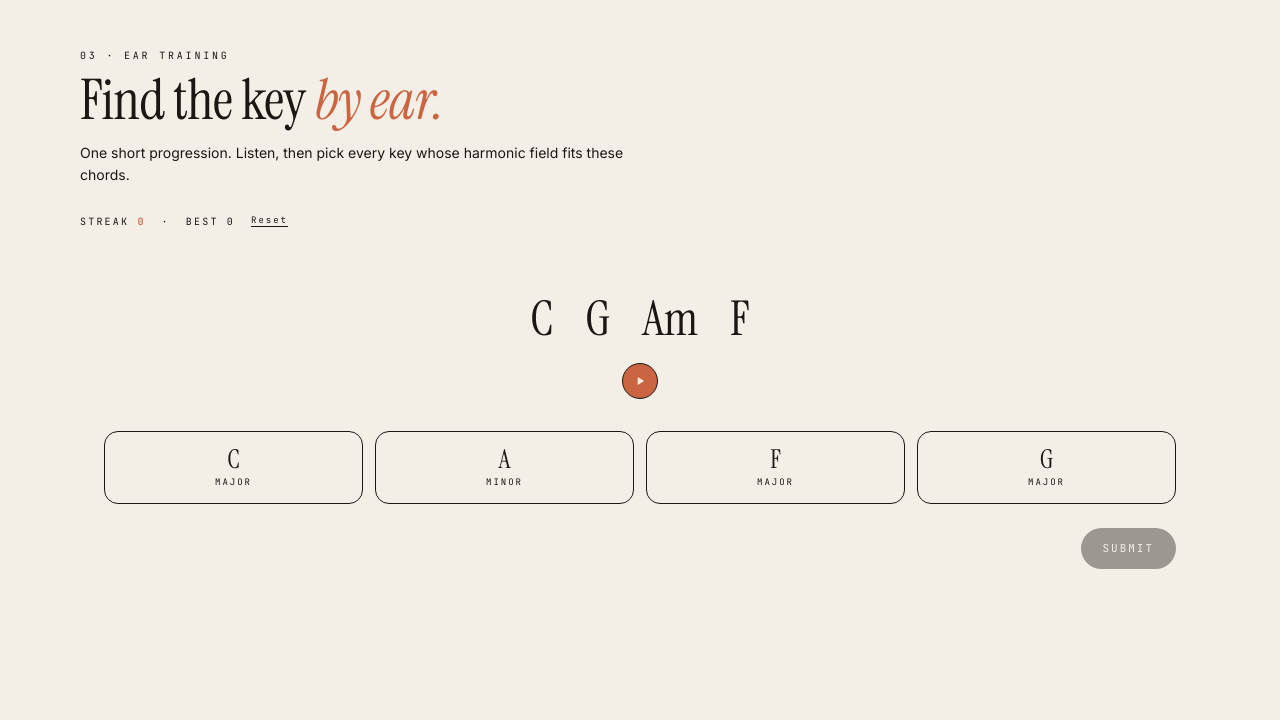
EarTrainingView › Correct submit (both valid keys, no distractors) shows Correct and increments streak
Click the button "C Major".
click(234, 467)  # box top-left (104, 431), bottom-right (363, 504)
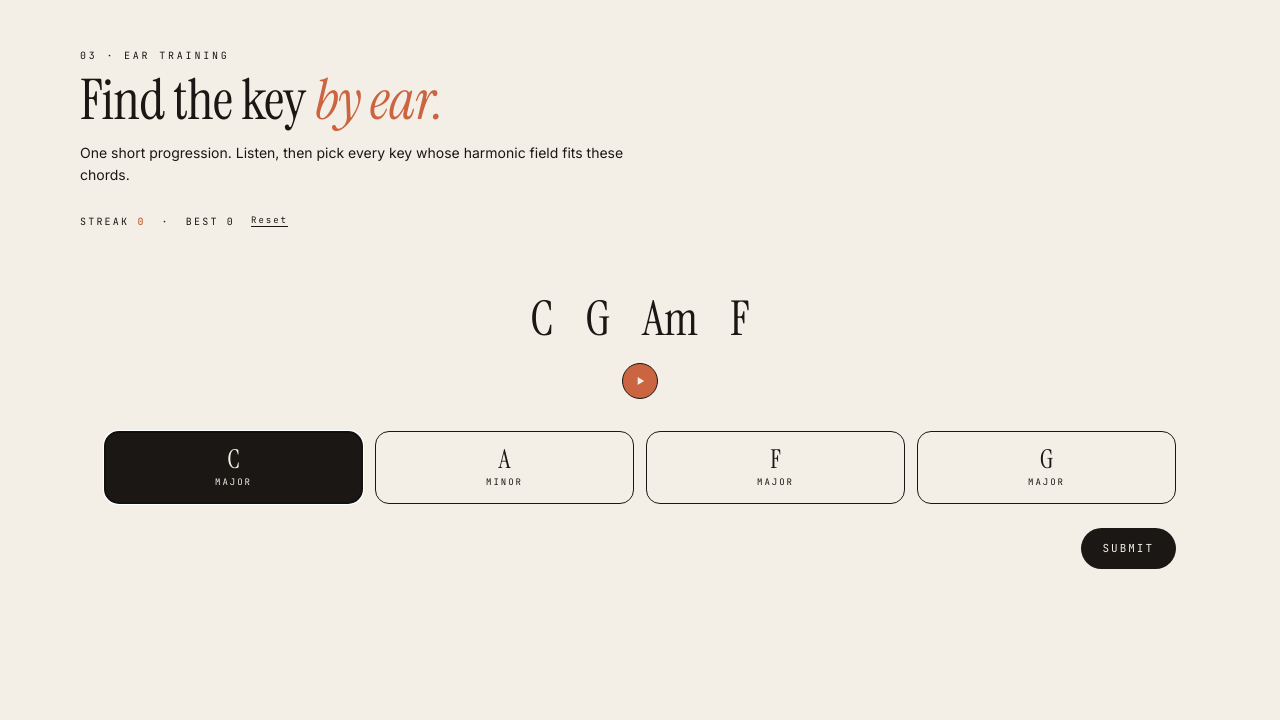
Click the button "A Minor".
click(504, 467)  # box top-left (375, 431), bottom-right (634, 504)
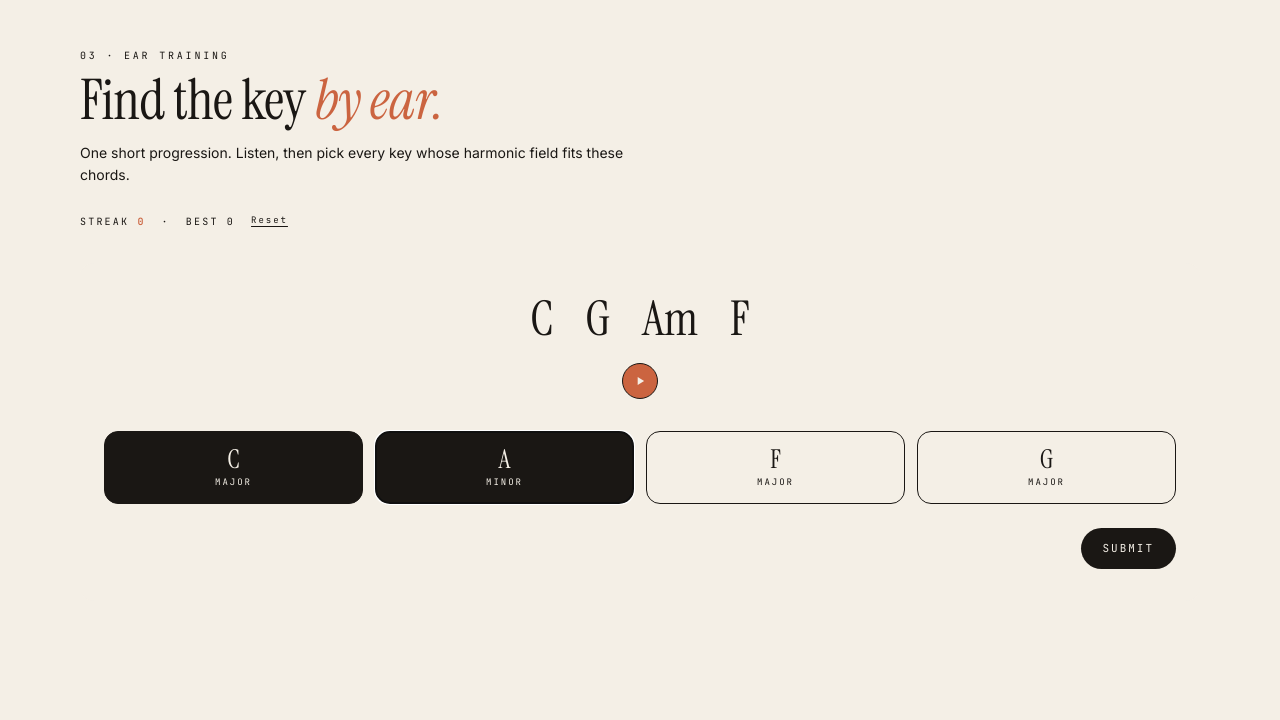
Click the button "Submit".
click(1128, 548)  # box top-left (1080, 528), bottom-right (1176, 569)
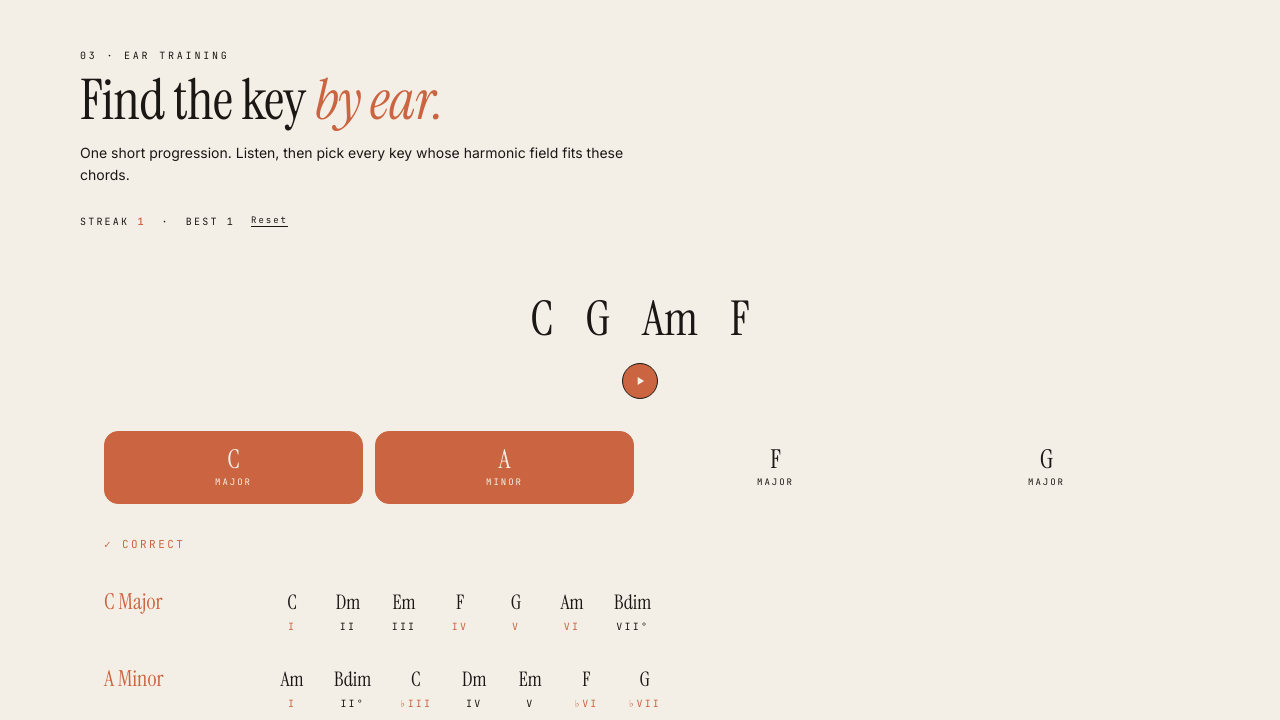
Expected: the text "✓ Correct" is shown, top-left (104, 537), bottom-right (185, 551)
Expected: the text "1" next to "Streak" is shown, top-left (137, 215), bottom-right (146, 228)
